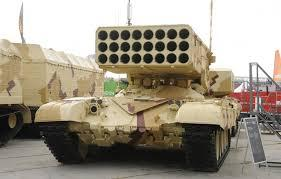MIL_SAM_TEL: (36, 22, 241, 173)
